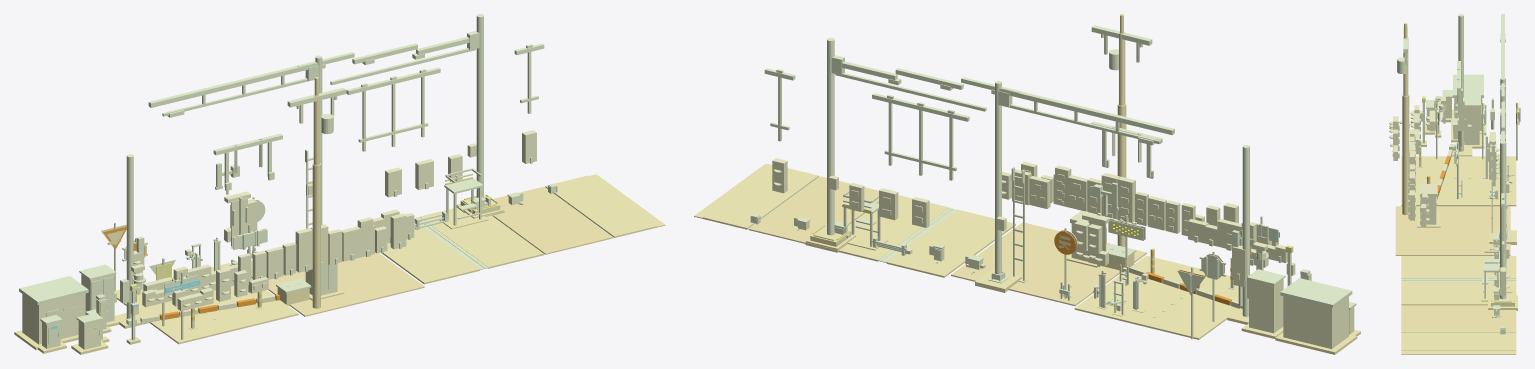
The model's file is scene_night_retroreflection.glb.
3 renders of one model, left to right at view 1: azimuth 30°, elevation 25°; view 2: azimuth 150°, elevation 25°; view 3: azimuth 270°, elevation 25°, orthographic. The views are drawn at different scales.
Parts seen in each view (by area): view 1: base (×2), approach_lane, deck_right, approach_slab, housing (×5), deck_left, mast (×2), body (×2), shaft_lower, roof, truss_top, lower_brace (+3 smaller); view 2: base (×2), deck_left, mast (×3), approach_lane, approach_slab, body, housing (×4), deck_right, cabinet, roof, truss_top, lower_brace (+6 smaller); view 3: base (×2), approach_lane, deck_left, deck_right, approach_slab, mast (×3), shaft_lower, housing (×5), base_pad (×4), cabinet, shoulder_strip, body (×3) (+15 smaller).
Boxes of the visible parts, left/top/right/bottom form: base (×2): left=114, top=252, right=424, bottom=344; approach_lane: left=493, top=186, right=612, bottom=254; deck_right: left=419, top=208, right=543, bottom=268; approach_slab: left=545, top=175, right=656, bottom=237; housing (×5): left=265, top=159, right=433, bottom=279; deck_left: left=382, top=225, right=479, bottom=284; mast (×2): left=126, top=14, right=483, bottom=318; body (×2): left=22, top=293, right=100, bottom=349; shaft_lower: left=312, top=163, right=320, bottom=308; roof: left=19, top=276, right=88, bottom=304; truss_top: left=148, top=63, right=317, bottom=107; lower_brace: left=330, top=48, right=475, bottom=85; base (×2): left=951, top=222, right=1238, bottom=339; deck_left: left=886, top=209, right=1015, bottom=277; mast (×3): left=827, top=37, right=1249, bottom=316; approach_lane: left=749, top=176, right=878, bottom=243; approach_slab: left=703, top=167, right=818, bottom=229; body: left=1283, top=296, right=1348, bottom=348; housing (×4): left=1029, top=175, right=1166, bottom=230; deck_right: left=838, top=195, right=949, bottom=261; cabinet: left=1249, top=279, right=1283, bottom=333; roof: left=1280, top=278, right=1352, bottom=307; truss_top: left=999, top=88, right=1174, bottom=135; lower_brace: left=835, top=73, right=986, bottom=111; base (×2): left=1395, top=156, right=1516, bottom=255; approach_lane: left=1401, top=305, right=1516, bottom=332; deck_left: left=1401, top=256, right=1516, bottom=278; deck_right: left=1401, top=282, right=1516, bottom=305; approach_slab: left=1401, top=333, right=1516, bottom=350; mast (×3): left=1458, top=14, right=1506, bottom=299; shaft_lower: left=1402, top=94, right=1409, bottom=215; housing (×5): left=1409, top=110, right=1505, bottom=295; base_pad (×4): left=1451, top=146, right=1517, bottom=308; cabinet: left=1464, top=106, right=1479, bottom=144; shoulder_strip: left=1401, top=350, right=1516, bottom=354; body (×3): left=1421, top=98, right=1482, bottom=224.
Size of the model in its own units: 20.04 by 7.38 by 4.58.
